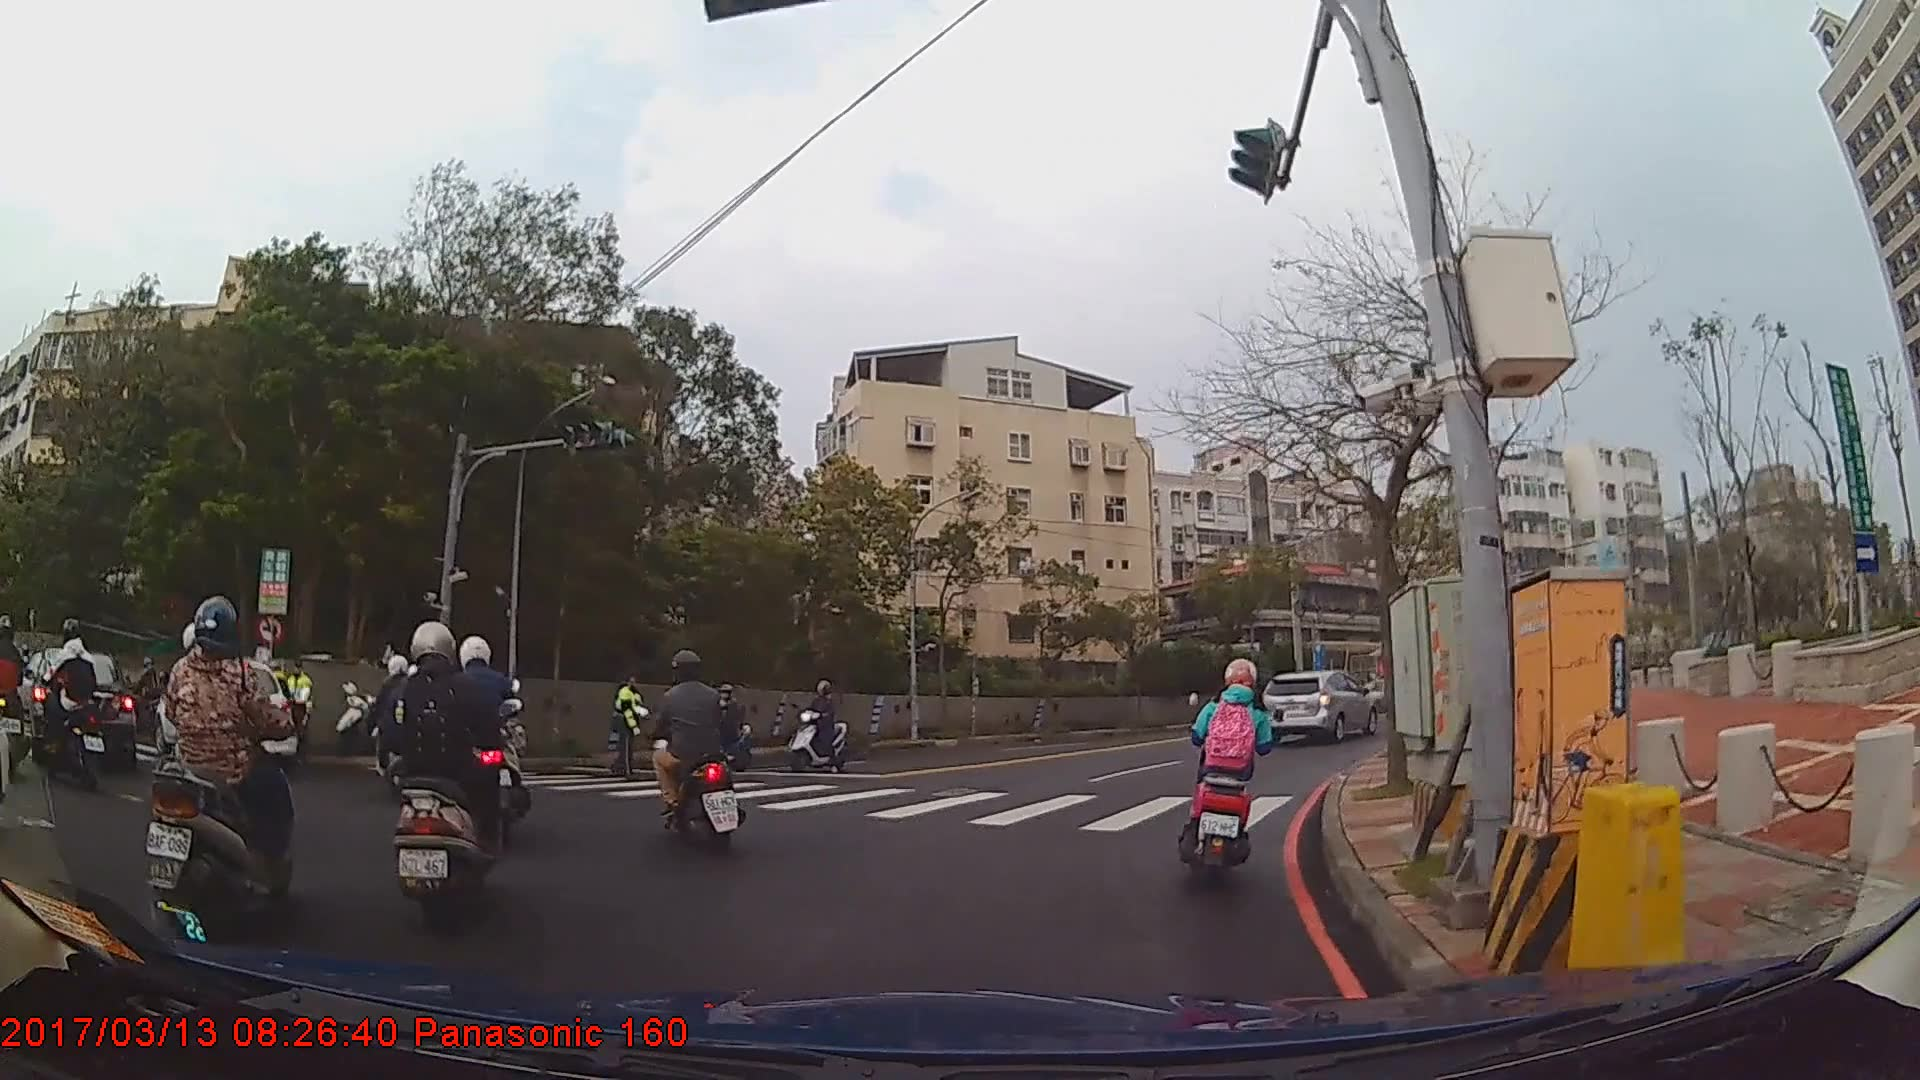pedestrian: (605, 671, 645, 779), (282, 660, 319, 766)
rider: (149, 594, 301, 934), (382, 615, 506, 911), (1188, 656, 1280, 869), (647, 648, 740, 853), (445, 631, 532, 838), (355, 654, 435, 805), (37, 618, 98, 782), (787, 679, 849, 771), (688, 680, 752, 770), (1, 617, 33, 780)
vehicle: (26, 647, 136, 767), (1253, 666, 1377, 745)
